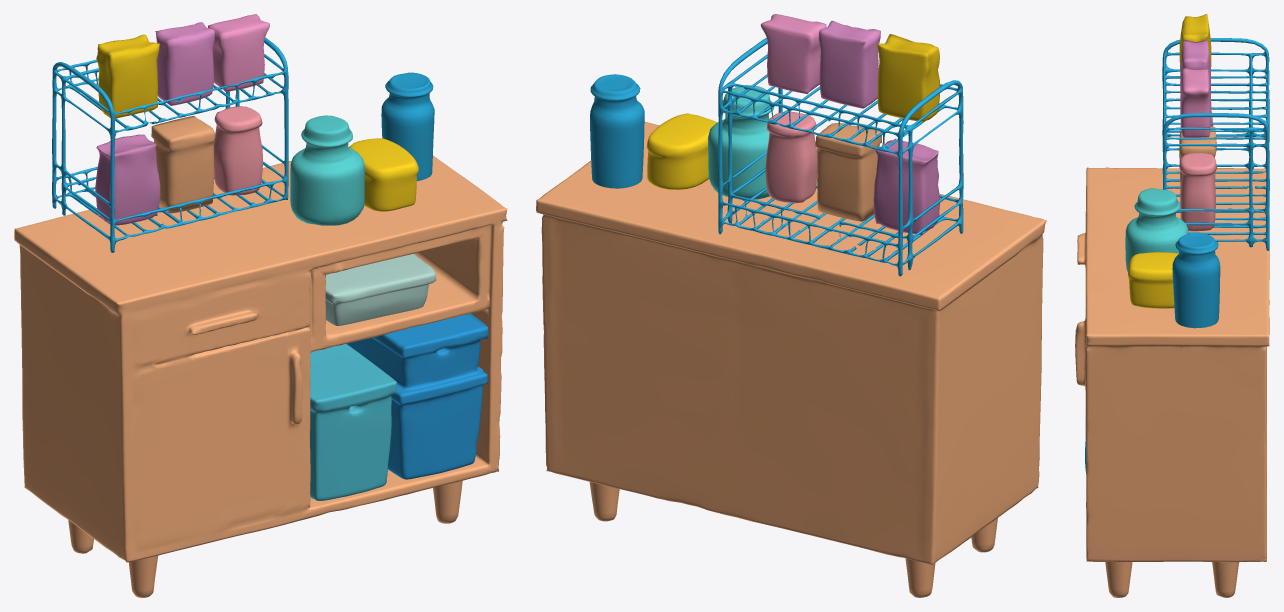
File: 零食架子 (1).fbx
The picture shows the model from 3 angles, left to right: view 1: azimuth 30°, elevation 25°; view 2: azimuth 150°, elevation 25°; view 3: azimuth 270°, elevation 25°; orthographic projection. The views are drawn at different scales.
Visible parts, largest first — view 1: root.0, root.2, root.3, root.1, root.5, root.4, root.6, root.8, root.9, root.10, root.7, root.12 (+2 smaller); view 2: root.0, root.1, root.7, root.6, root.8, root.10, root.5, root.9, root.11, root.12, root.13; view 3: root.0, root.1, root.7, root.5, root.12, root.11, root.13, root.10, root.9, root.6.
Part boxes in pixels (x1,y1,x2,y2): root.0: (14, 147, 507, 597); root.2: (347, 313, 488, 479); root.3: (310, 344, 396, 500); root.1: (52, 37, 288, 252); root.5: (290, 115, 364, 225); root.4: (325, 254, 436, 325); root.6: (151, 116, 215, 213); root.8: (95, 134, 160, 225); root.9: (96, 34, 159, 118); root.10: (155, 22, 214, 105); root.7: (381, 72, 434, 180); root.12: (213, 106, 262, 195); root.0: (536, 122, 1046, 597); root.1: (718, 38, 963, 276); root.7: (590, 74, 644, 188); root.6: (815, 123, 881, 221); root.8: (873, 138, 939, 234); root.10: (818, 20, 880, 108); root.5: (708, 85, 774, 199); root.9: (877, 34, 939, 121); root.11: (646, 113, 716, 189); root.12: (765, 111, 817, 203); root.13: (760, 14, 826, 93); root.0: (1075, 167, 1269, 597); root.1: (1162, 38, 1269, 250); root.7: (1172, 233, 1220, 328); root.5: (1125, 188, 1188, 271); root.12: (1179, 153, 1216, 231); root.11: (1128, 252, 1178, 308); root.13: (1180, 67, 1211, 137); root.10: (1180, 39, 1210, 94); root.9: (1179, 14, 1211, 70); root.6: (1179, 126, 1216, 191).
Size of the model in its own units: 141 by 177 by 68.96.
